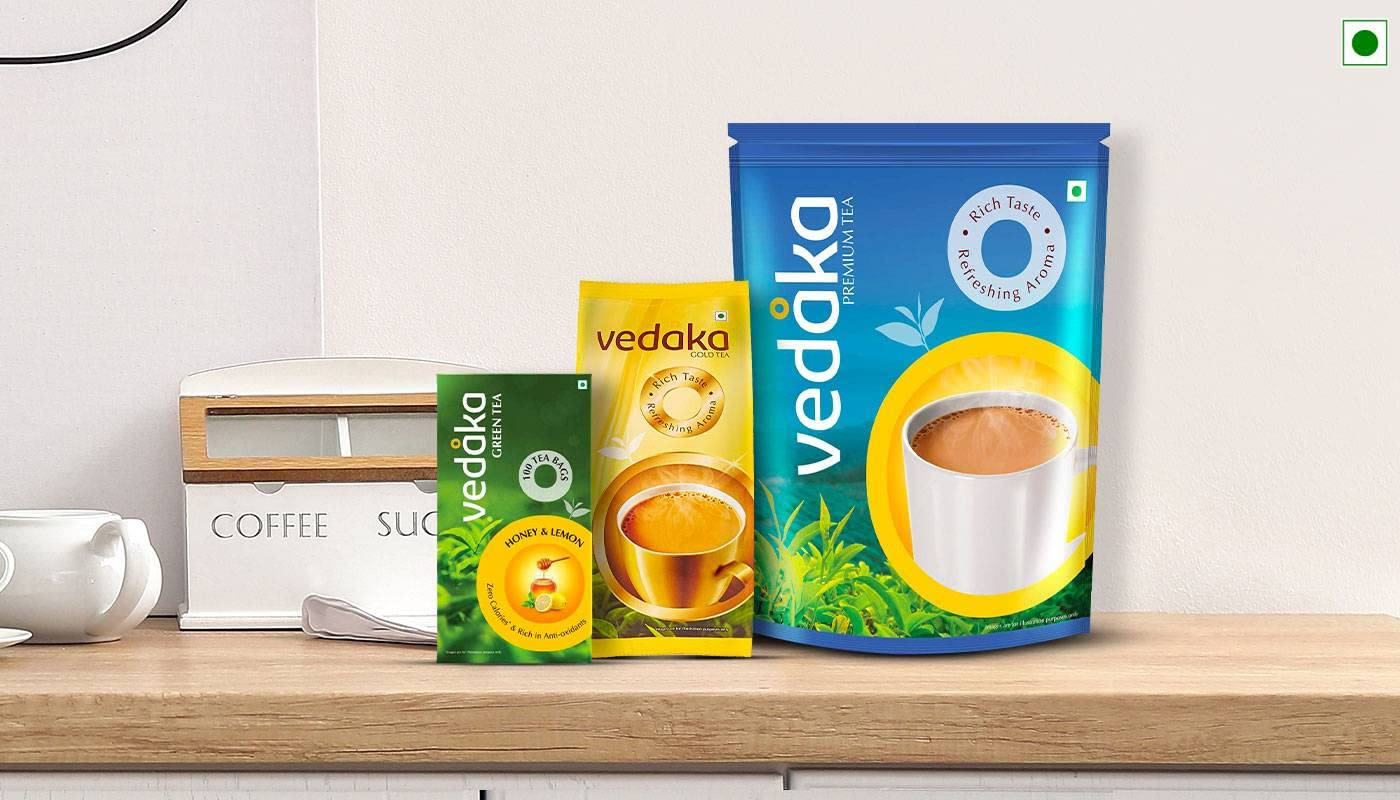veg: (1337, 14, 1393, 80), (1052, 168, 1092, 222)
